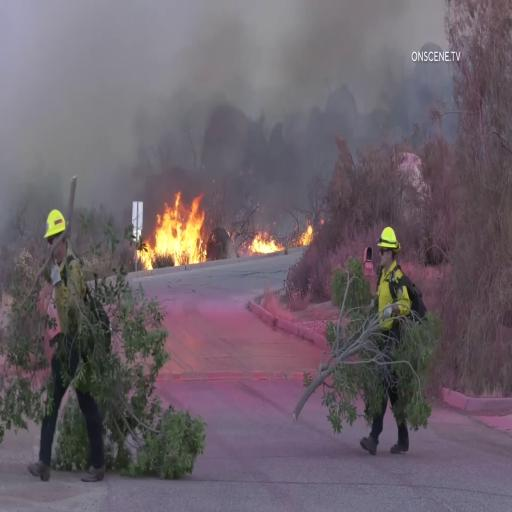fire: (133, 196, 207, 278), (252, 225, 278, 265)
